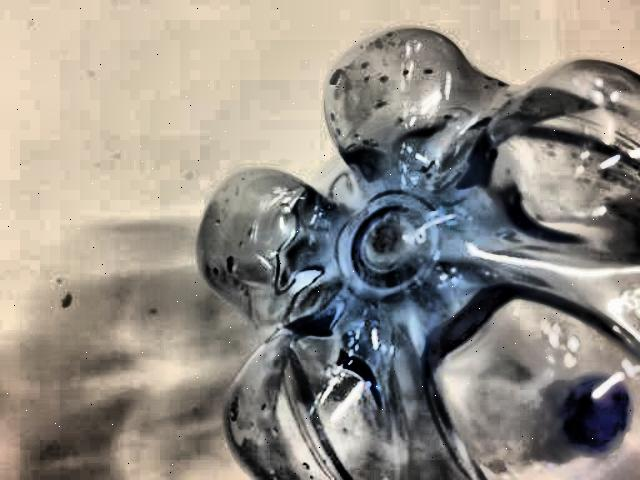Bottles: (189, 26, 640, 480)
